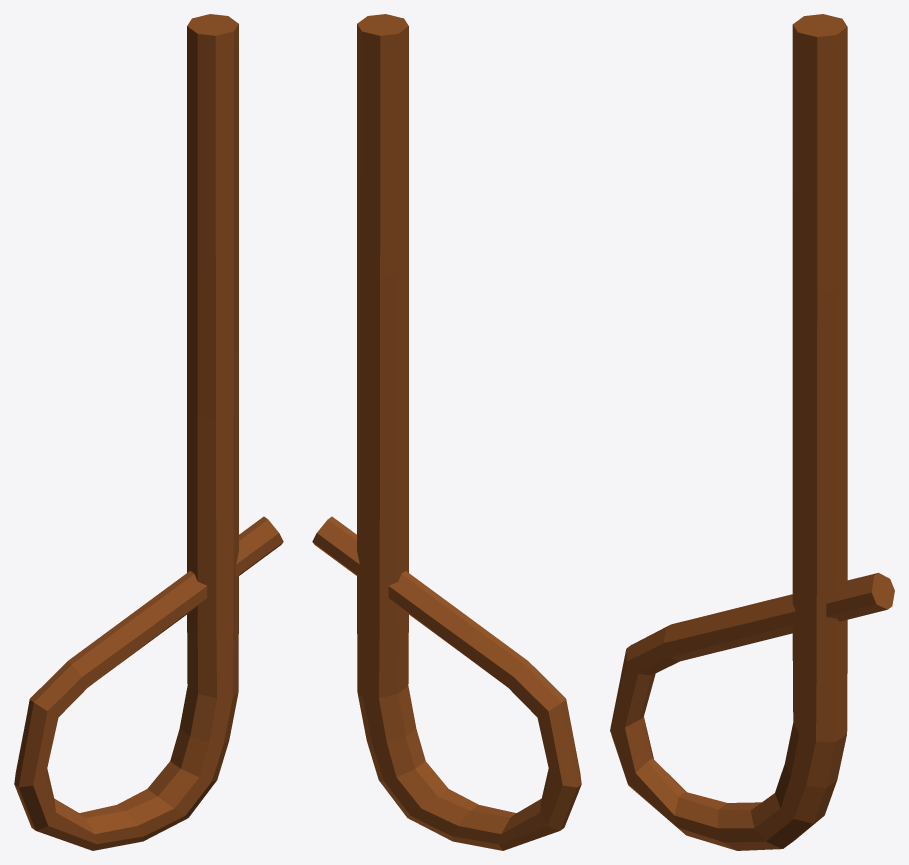
Rendered from rope.glb.
The picture shows the model from 3 angles, left to right: view 1: azimuth 30°, elevation 25°; view 2: azimuth 150°, elevation 25°; view 3: azimuth 330°, elevation 25°; orthographic projection. The views are drawn at different scales.
Visible parts, largest first — view 1: Cube; view 2: Cube; view 3: Cube.
Boxes of the visible parts, x1,y1,x2,y2 form: Cube: [14, 14, 283, 850]; Cube: [312, 14, 581, 850]; Cube: [610, 14, 894, 850].
Bounding box in the file's own units: 0.1274 × 0.3687 × 0.02.
